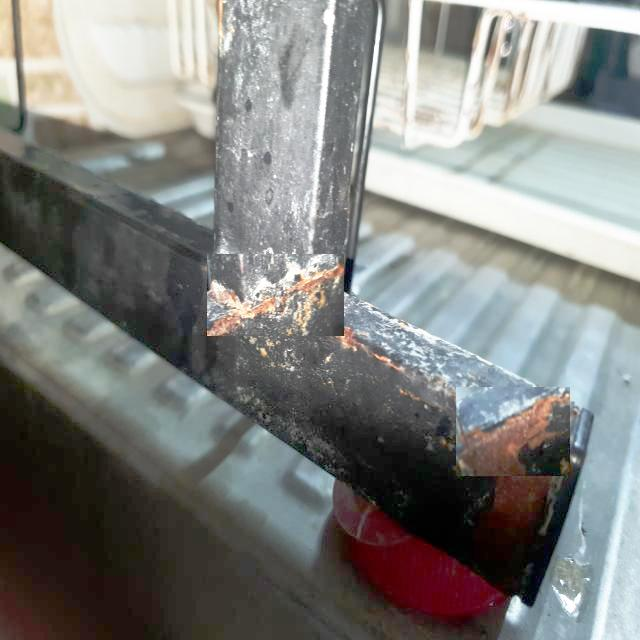Corrosion: (485, 479, 556, 546), (467, 417, 529, 476), (515, 396, 558, 450), (222, 295, 287, 316), (287, 279, 332, 304), (367, 350, 403, 372), (208, 281, 239, 306), (207, 316, 244, 336), (336, 326, 362, 352), (555, 394, 571, 412), (322, 263, 343, 276), (400, 390, 422, 402)
